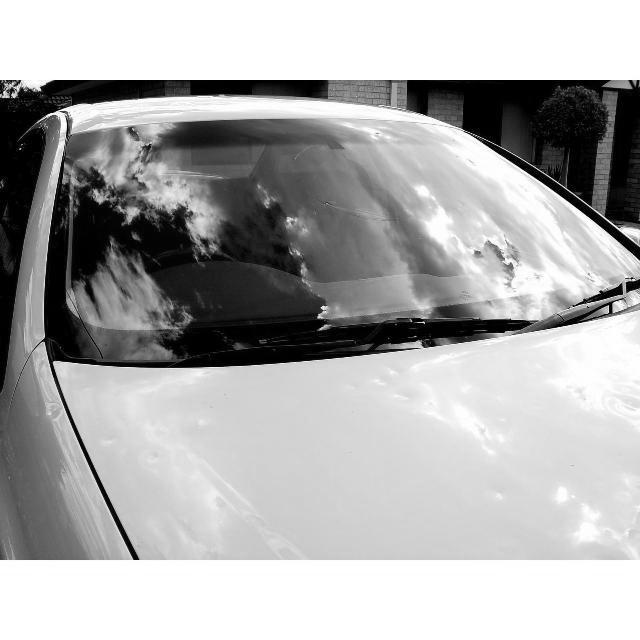bonnet-dent: (131, 355, 639, 559)
